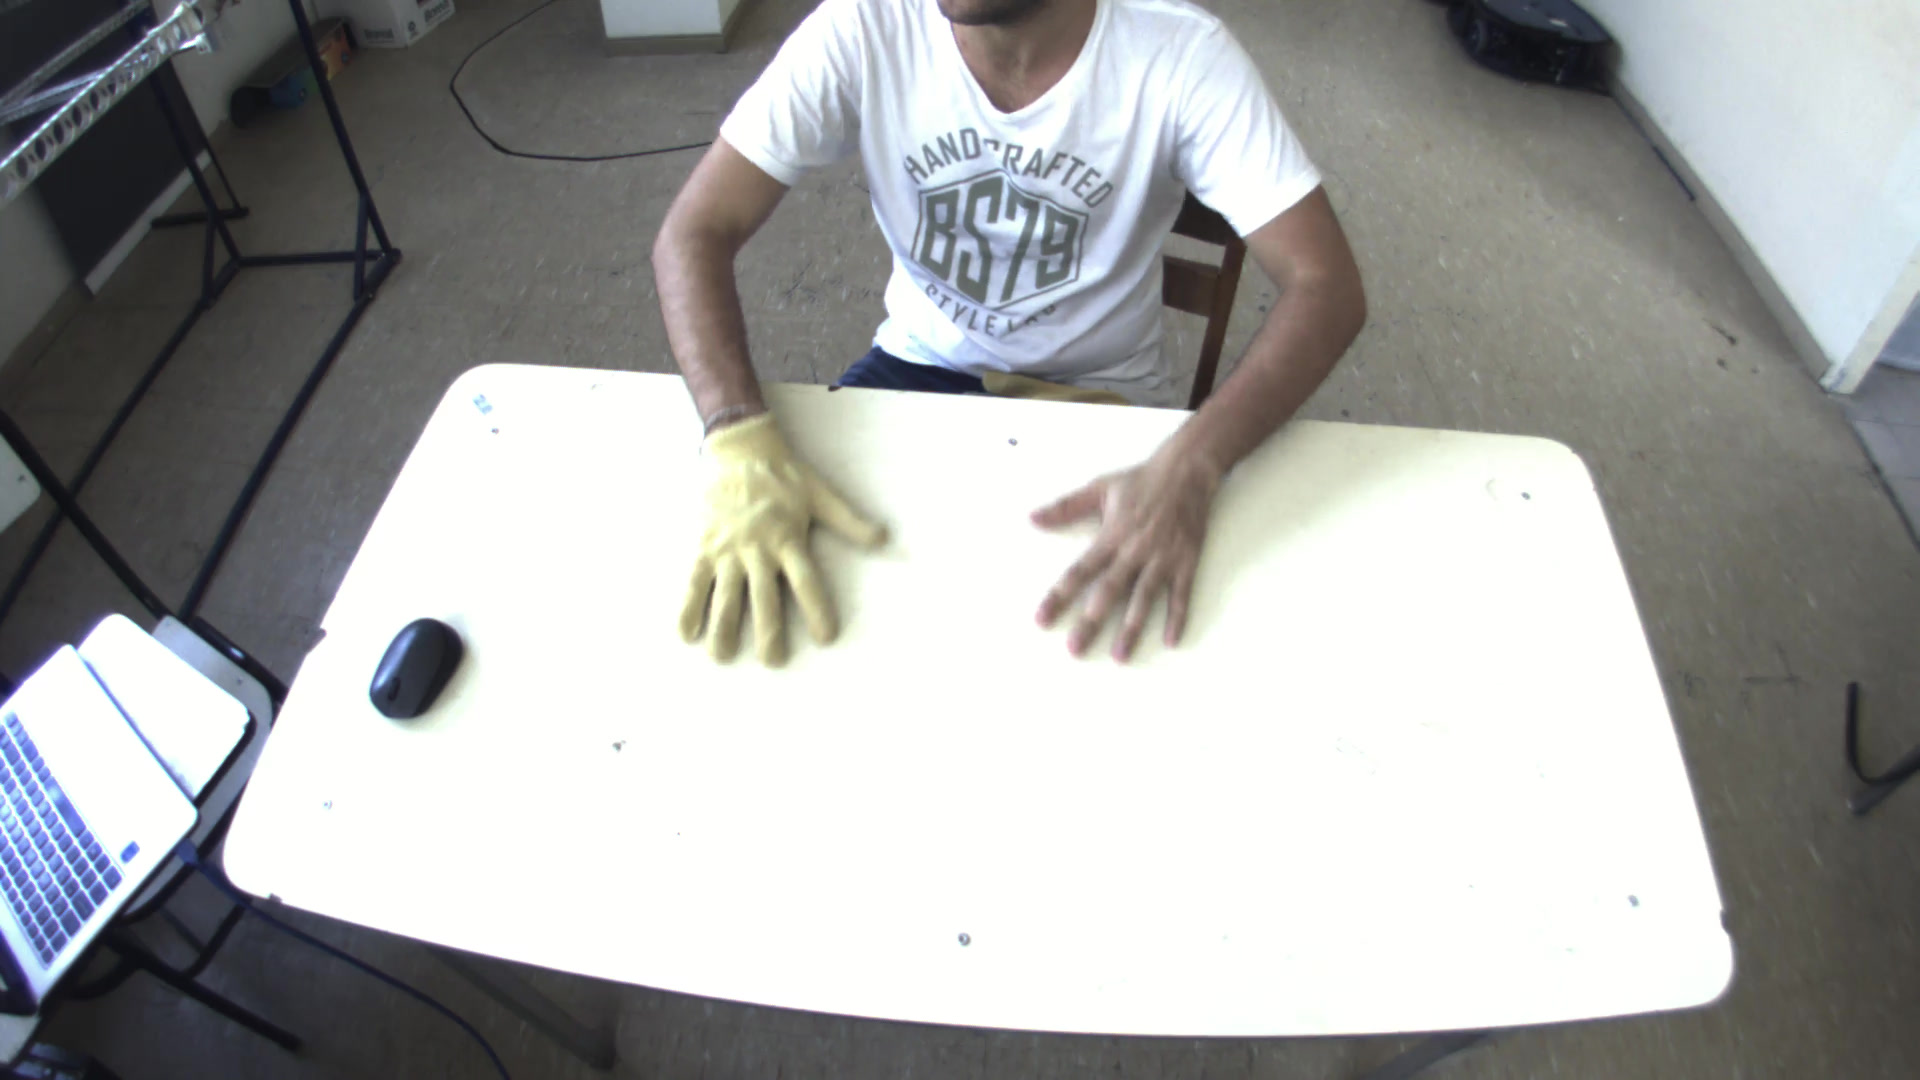hand: (667, 389, 897, 673), (1017, 447, 1240, 669)
